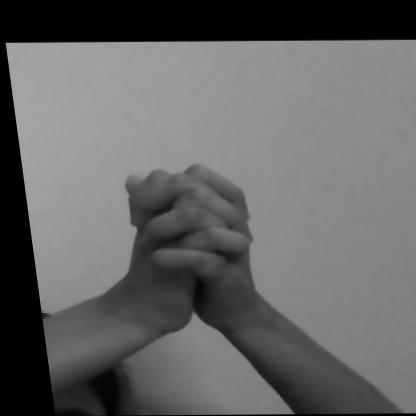prayer: (54, 150, 297, 361)
